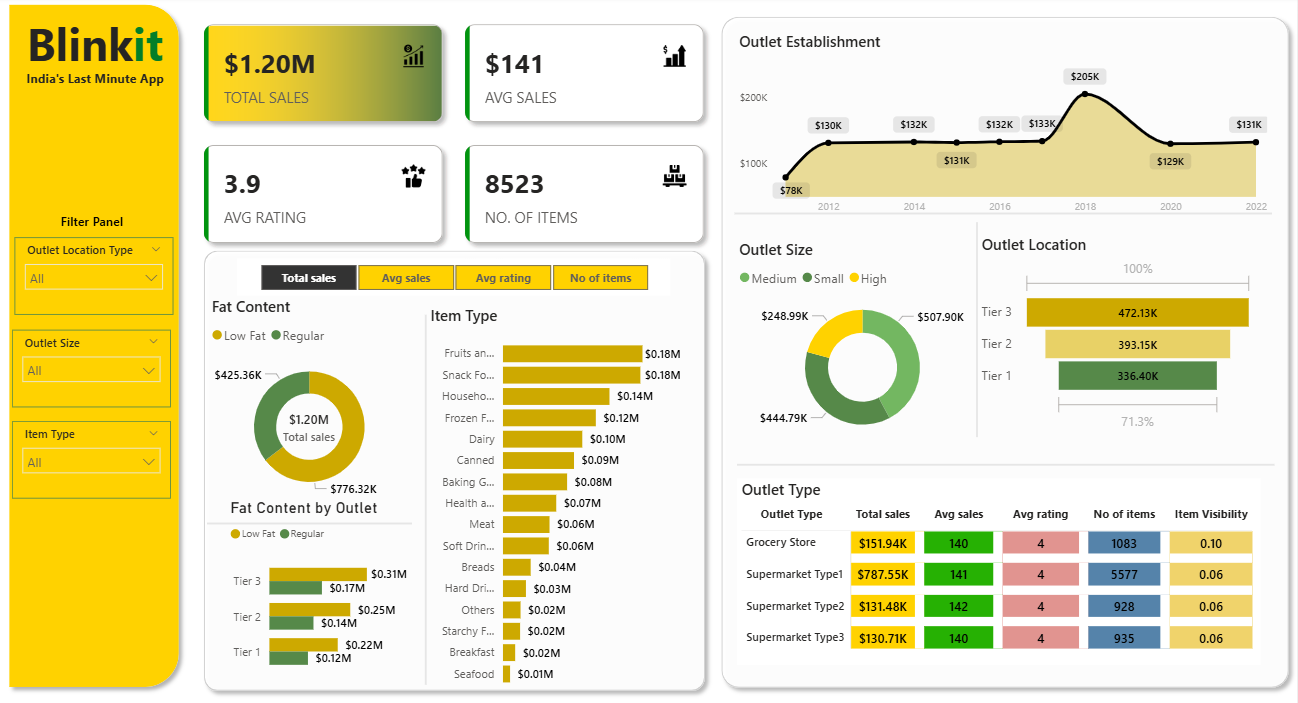

The page's visual inventory and layout, read from the dashboard file:
{"tool":"powerbi","page":{"name":"Blinkit_Dashboard","canvas":[1400,800],"ordinal":0},"visuals":[{"type":"shape","box":[10,0,200,750],"z":0},{"type":"textbox","box":[10.5,13.5,199.6,75],"z":1000},{"type":"textbox","box":[21,73.5,178.6,28.5],"z":2000},{"type":"cardVisual","fields":{"Data":["BlinkIT Grocery Data.Total sales","BlinkIT Grocery Data.Avg sales","BlinkIT Grocery Data.Avg rating","BlinkIT Grocery Data.No of items"]},"box":[210,13,570.6,269.5],"z":3000},{"type":"shape","box":[218.5,264.1,555,490],"z":4000},{"type":"slicer","fields":{"Values":["Metrics.Metrics"]},"box":[262.7,281.5,465.1,40.2],"z":5000},{"type":"donutChart","title":"Fat Content","fields":{"Y":["BlinkIT Grocery Data.Total sales"],"Category":["BlinkIT Grocery Data.Item Fat Content"]},"box":[230.6,321.7,219.8,229.2],"z":6000},{"type":"cardVisual","fields":{"Data":["BlinkIT Grocery Data.Total sales"]},"box":[285.5,427.6,109.9,60.3],"z":7000},{"type":"clusteredBarChart","title":"Fat Content by Outlet","fields":{"Y":["BlinkIT Grocery Data.Total sales"],"Category":["BlinkIT Grocery Data.Outlet Location Type"],"Series":["BlinkIT Grocery Data.Item Fat Content"]},"box":[250.7,538.9,199.7,199.7],"z":8000},{"type":"shape","box":[230.6,550.9,219.8,29.5],"z":9000},{"type":"shape","box":[450.4,341.8,29.5,396.8],"z":10000},{"type":"barChart","title":"Item Type","fields":{"Y":["BlinkIT Grocery Data.Total sales"],"Category":["BlinkIT Grocery Data.Item Type"]},"box":[465.1,331.1,278.8,419.6],"z":11000},{"type":"shape","box":[773.5,13.4,626,737.3],"z":12000},{"type":"lineChart","title":"Outlet Establishment","fields":{"Category":["BlinkIT Grocery Data.Outlet Establishment Year"],"Y":["BlinkIT Grocery Data.Total sales"]},"box":[796.3,37.5,576.4,205.1],"z":13000},{"type":"shape","box":[796.3,218.5,576.4,29.5],"z":14000},{"type":"donutChart","title":"Outlet Size","fields":{"Y":["BlinkIT Grocery Data.Total sales"],"Category":["BlinkIT Grocery Data.Outlet Size"]},"box":[796.3,259.8,275,225],"z":15000},{"type":"shape","box":[1041.6,242.6,29.5,230.6],"z":16000},{"type":"funnel","title":"Outlet Location","fields":{"Category":["BlinkIT Grocery Data.Outlet Location Type"],"Y":["Sum(BlinkIT Grocery Data.Sales)"]},"box":[1056.3,254.4,301.6,215.8],"z":17000},{"type":"shape","box":[798.9,487.9,576.4,29.5],"z":18000},{"type":"pivotTable","title":"Outlet Type","fields":{"Rows":["BlinkIT Grocery Data.Outlet Type"],"Values":["BlinkIT Grocery Data.Total sales","BlinkIT Grocery Data.Avg sales","BlinkIT Grocery Data.Avg rating","BlinkIT Grocery Data.No of items","Avg(BlinkIT Grocery Data.Item Visibility)"]},"box":[798.9,517.4,561.7,199.7],"z":19000},{"type":"slicer","fields":{"Values":["BlinkIT Grocery Data.Outlet Location Type"]},"box":[24.1,258.7,170.2,83.1],"z":19001},{"type":"slicer","fields":{"Values":["BlinkIT Grocery Data.Outlet Size"]},"box":[21.4,357.9,170.2,83.1],"z":19002},{"type":"slicer","fields":{"Values":["BlinkIT Grocery Data.Item Type"]},"box":[21.4,455.8,170.2,83.1],"z":19003},{"type":"textbox","box":[61.7,227.9,91.2,28.2],"z":19004}]}

Visuals, with their boxes on the page's 1400x800 design canvas (x1, y1, x2, y2). These are canvas units, not pixel positions in the 1298x703 screenshot, which may show the page scaled, cropped or inside an application window:
shape: [x1=10, y1=0, x2=210, y2=750]
textbox: [x1=10, y1=14, x2=210, y2=88]
textbox: [x1=21, y1=74, x2=200, y2=102]
cardVisual - BlinkIT Grocery Data.Total sales x BlinkIT Grocery Data.Avg sales: [x1=210, y1=13, x2=781, y2=282]
shape: [x1=218, y1=264, x2=774, y2=754]
slicer - Metrics.Metrics: [x1=263, y1=282, x2=728, y2=322]
"Fat Content" donutChart: [x1=231, y1=322, x2=450, y2=551]
cardVisual - BlinkIT Grocery Data.Total sales: [x1=286, y1=428, x2=395, y2=488]
"Fat Content by Outlet" clusteredBarChart: [x1=251, y1=539, x2=450, y2=739]
shape: [x1=231, y1=551, x2=450, y2=580]
shape: [x1=450, y1=342, x2=480, y2=739]
"Item Type" barChart: [x1=465, y1=331, x2=744, y2=751]
shape: [x1=774, y1=13, x2=1400, y2=751]
"Outlet Establishment" lineChart: [x1=796, y1=38, x2=1373, y2=243]
shape: [x1=796, y1=218, x2=1373, y2=248]
"Outlet Size" donutChart: [x1=796, y1=260, x2=1071, y2=485]
shape: [x1=1042, y1=243, x2=1071, y2=473]
"Outlet Location" funnel: [x1=1056, y1=254, x2=1358, y2=470]
shape: [x1=799, y1=488, x2=1375, y2=517]
"Outlet Type" pivotTable: [x1=799, y1=517, x2=1361, y2=717]
slicer - BlinkIT Grocery Data.Outlet Location Type: [x1=24, y1=259, x2=194, y2=342]
slicer - BlinkIT Grocery Data.Outlet Size: [x1=21, y1=358, x2=192, y2=441]
slicer - BlinkIT Grocery Data.Item Type: [x1=21, y1=456, x2=192, y2=539]
textbox: [x1=62, y1=228, x2=153, y2=256]
